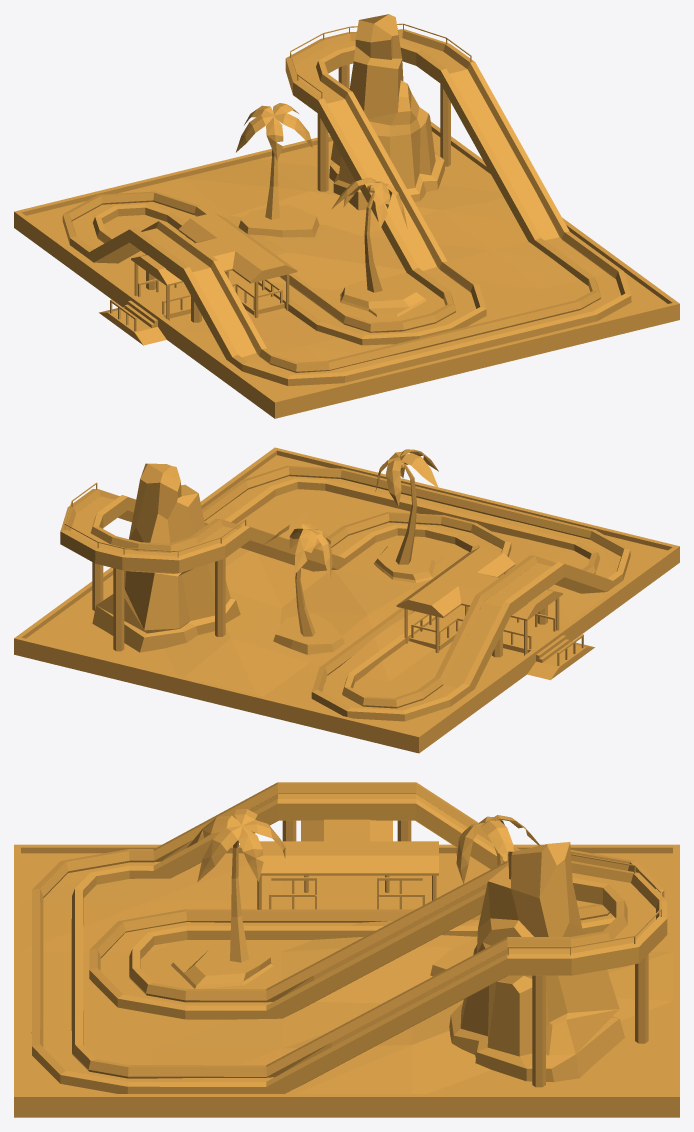
The model's file is water-ride.fbx.
3 views of the same model, one above another, from view 1: azimuth 30°, elevation 25°; view 2: azimuth 150°, elevation 25°; view 3: azimuth 270°, elevation 25° (orthographic). The views are drawn at different scales.
Parts seen in each view (by area): view 1: water-ride; view 2: water-ride; view 3: water-ride.
Part boxes in pixels (bbox=[...]): water-ride: bbox=[14, 14, 679, 418]; water-ride: bbox=[14, 447, 679, 753]; water-ride: bbox=[14, 782, 679, 1117].
Size of the model in its own units: 27.5 by 10.78 by 29.
